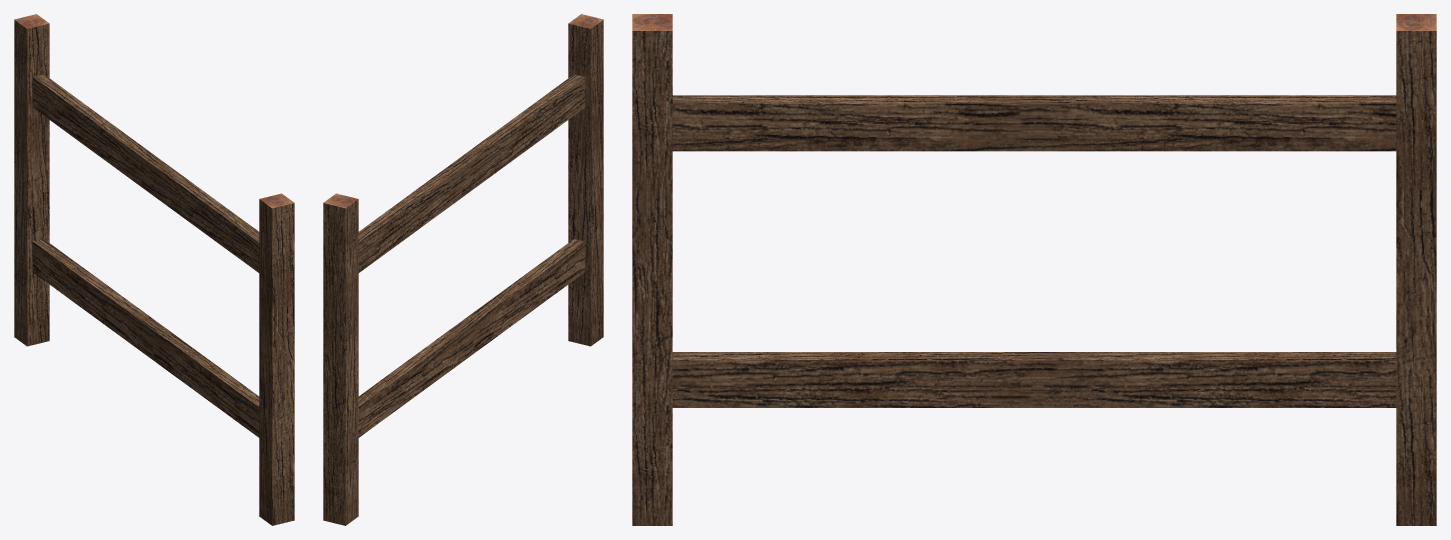
The model's file is fence.obj.
3 views of the same model, side by side, from view 1: azimuth 30°, elevation 25°; view 2: azimuth 150°, elevation 25°; view 3: azimuth 270°, elevation 25° (orthographic). The views are drawn at different scales.
Visible parts, largest first — view 1: fence; view 2: fence; view 3: fence.
Boxes of the visible parts, x1,y1,x2,y2 form: fence: [14, 14, 294, 525]; fence: [323, 14, 603, 525]; fence: [632, 14, 1436, 525].
Bounding box in the file's own units: 0.1 × 1.35 × 1.99.
